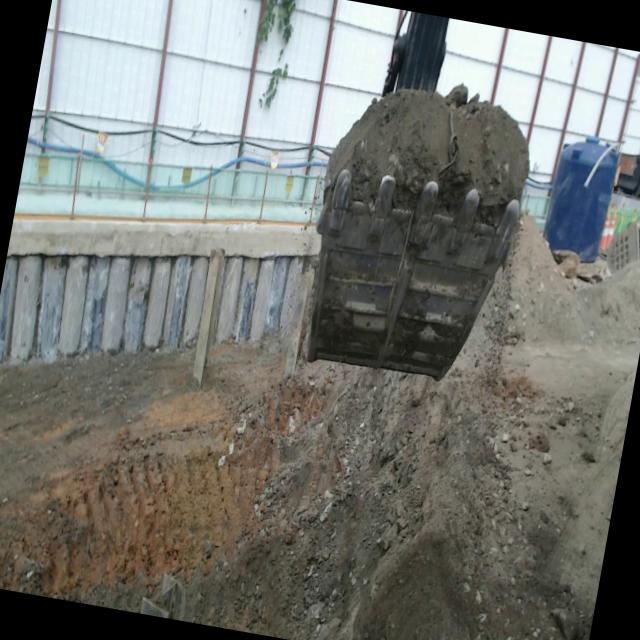red-sand: (0, 310, 559, 640), (323, 85, 529, 226)
